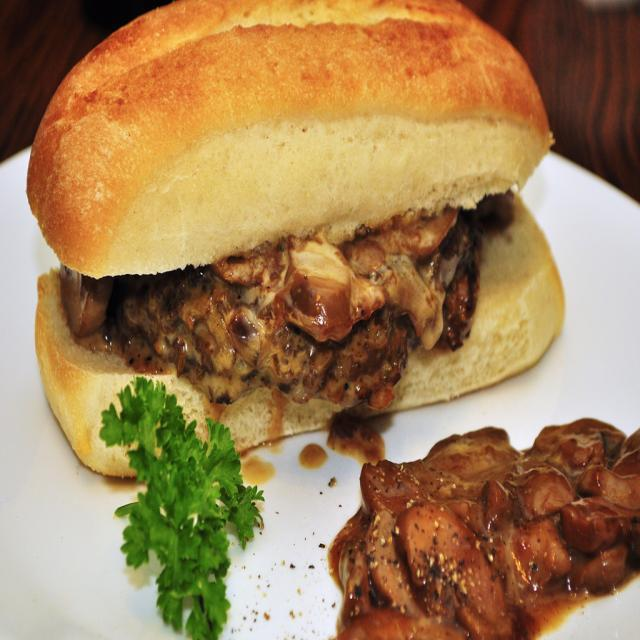Hamburger: (26, 0, 566, 476)
